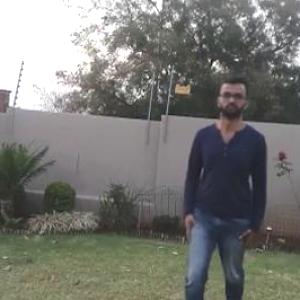follow: (185, 86, 263, 299)
